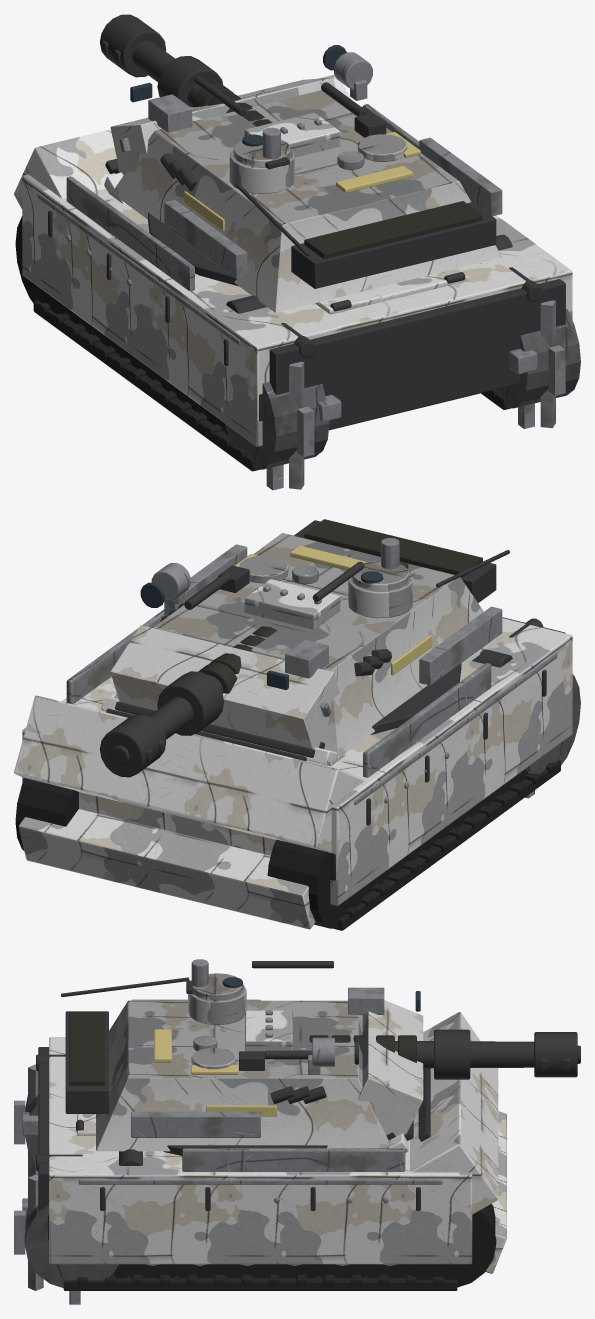
Rendered from tank_heavy.glb.
The picture shows the model from 3 angles, top to bottom: view 1: azimuth 30°, elevation 25°; view 2: azimuth 150°, elevation 25°; view 3: azimuth 270°, elevation 25°; orthographic projection. The views are drawn at different scales.
Visible parts, largest first — view 1: HullMesh, TurretMesh, BarrelMesh, Wheel_L_sprocket, Wheel_R_sprocket, Wheel_L_idler; view 2: HullMesh, TurretMesh, BarrelMesh, Wheel_L_idler, Wheel_R_idler, Wheel_L_sprocket; view 3: HullMesh, TurretMesh, BarrelMesh, Wheel_R_sprocket, Wheel_R_idler, Wheel_L_sprocket, Wheel_R3, Wheel_R2, Wheel_R4, Wheel_R1, Wheel_R5, Wheel_R0.
Boxes of the visible parts, x1,y1,x2,y2 form: HullMesh: [14, 74, 572, 471]; TurretMesh: [110, 45, 502, 312]; BarrelMesh: [100, 14, 340, 157]; Wheel_L_sprocket: [224, 362, 329, 490]; Wheel_R_sprocket: [497, 300, 580, 428]; Wheel_L_idler: [15, 216, 69, 314]; HullMesh: [14, 609, 572, 930]; TurretMesh: [110, 519, 509, 757]; BarrelMesh: [99, 579, 340, 777]; Wheel_L_idler: [267, 839, 367, 928]; Wheel_R_idler: [15, 778, 78, 850]; Wheel_L_sprocket: [525, 674, 580, 798]; HullMesh: [22, 1012, 506, 1290]; TurretMesh: [61, 959, 423, 1155]; BarrelMesh: [245, 1010, 580, 1079]; Wheel_R_sprocket: [14, 1174, 118, 1304]; Wheel_R_idler: [402, 1204, 496, 1287]; Wheel_L_sprocket: [14, 1064, 38, 1177]; Wheel_R3: [215, 1264, 280, 1277]; Wheel_R2: [262, 1264, 326, 1277]; Wheel_R4: [167, 1264, 231, 1277]; Wheel_R1: [310, 1264, 373, 1277]; Wheel_R5: [120, 1264, 184, 1277]; Wheel_R0: [357, 1264, 409, 1277].
Bounding box in the file's own units: 3.86 × 3.32 × 6.56.
11 materials, 2 textured.
